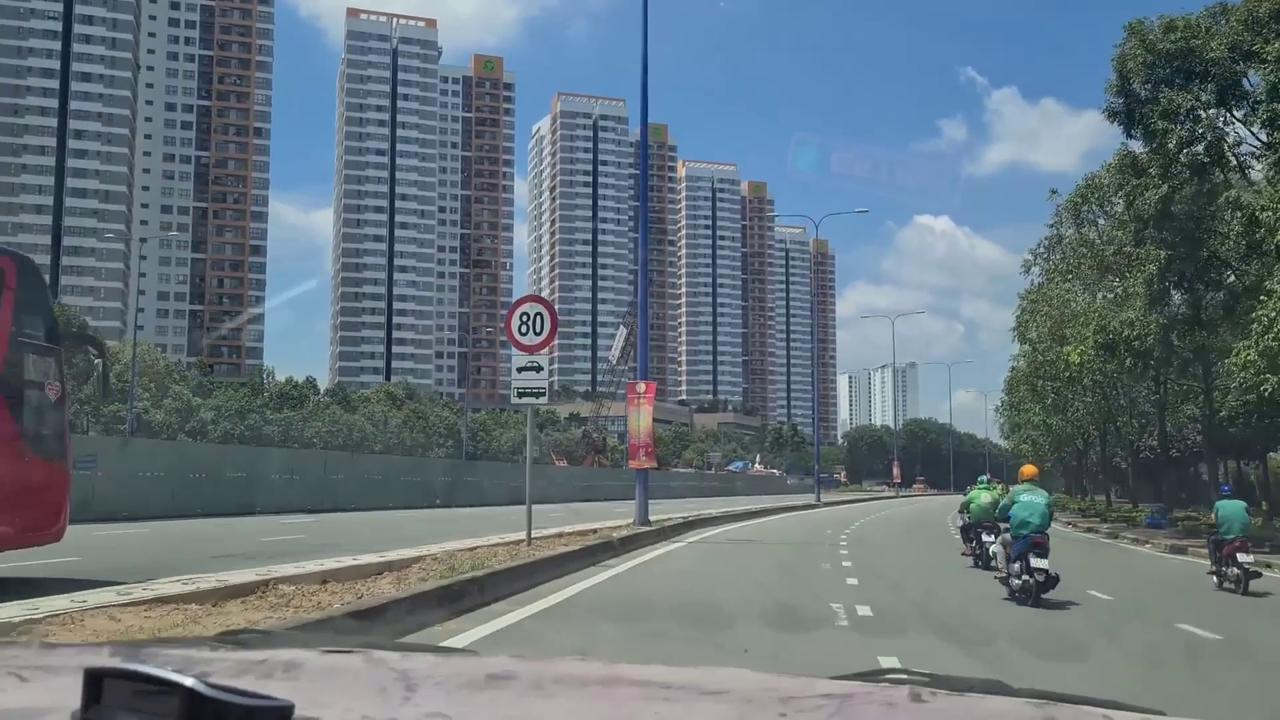Biển phụ: (510, 353, 550, 405)
Giới hạn tốc độ 80Km/h: (504, 292, 561, 355)
